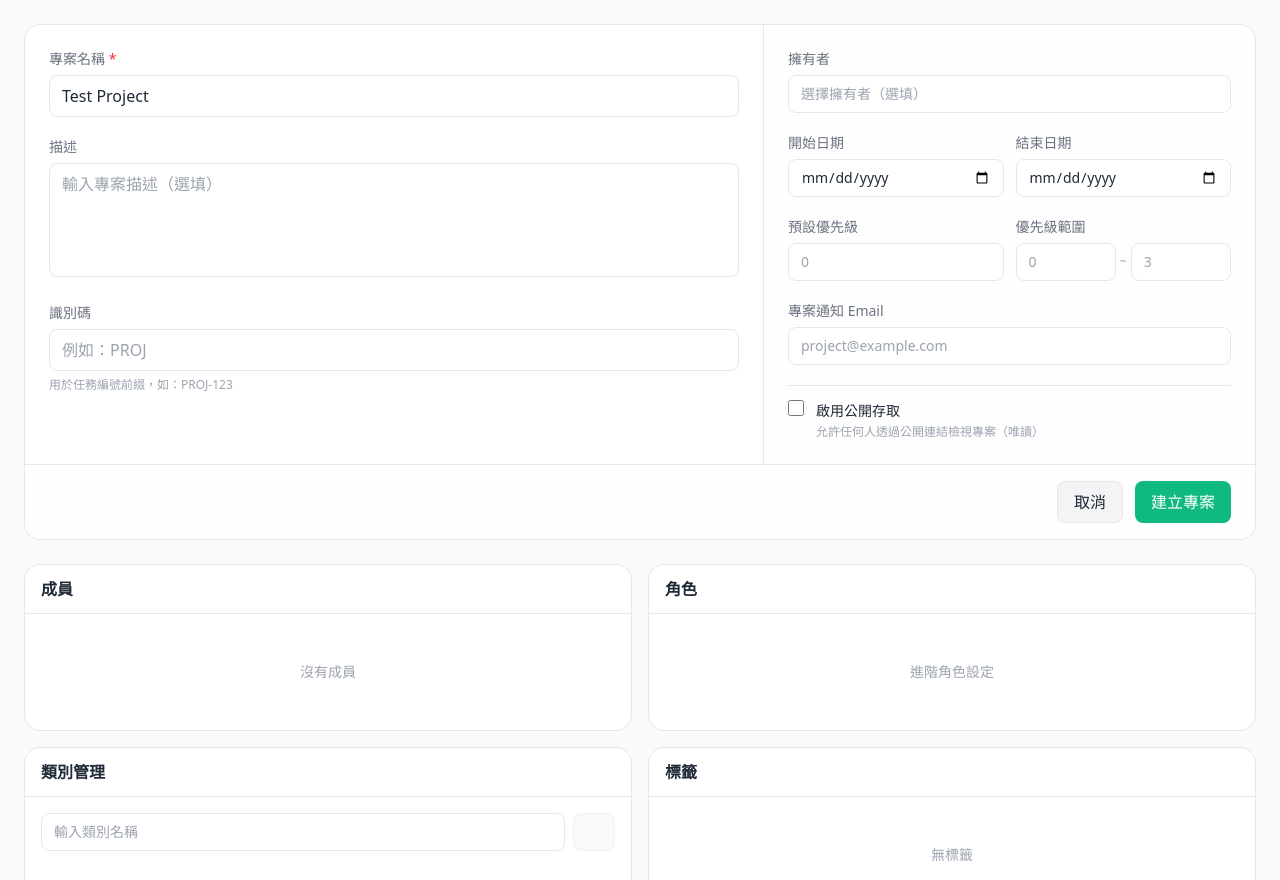
ProjectCreateView › project creation › should show error message on creation failure
What coordinates should you click on to do the following:
click the button "建立專案"
I would click on:
 (1183, 502)
Its box is top-left (1135, 481), bottom-right (1231, 523).
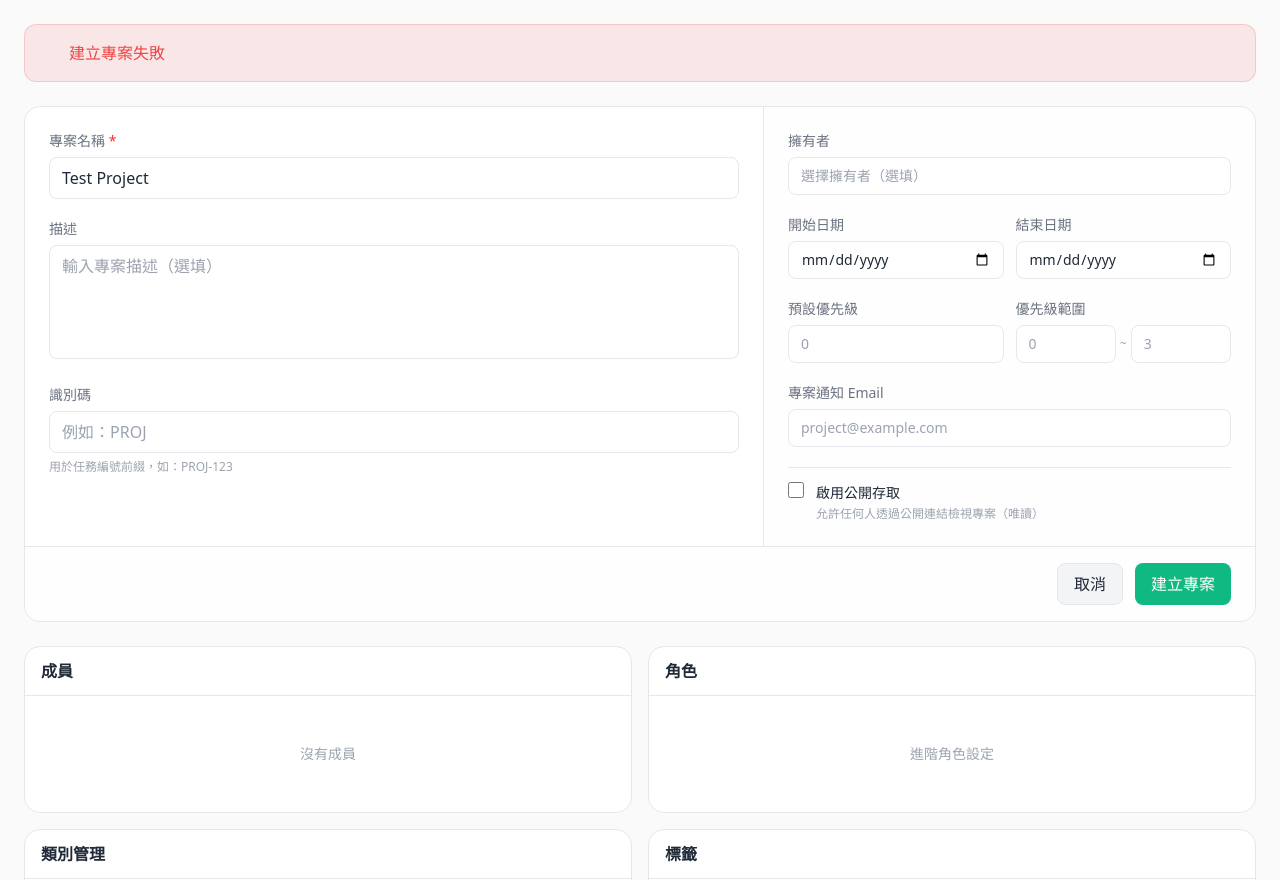
Check: the text "建立專案失敗" is shown, box top-left (69, 41), bottom-right (165, 65)
